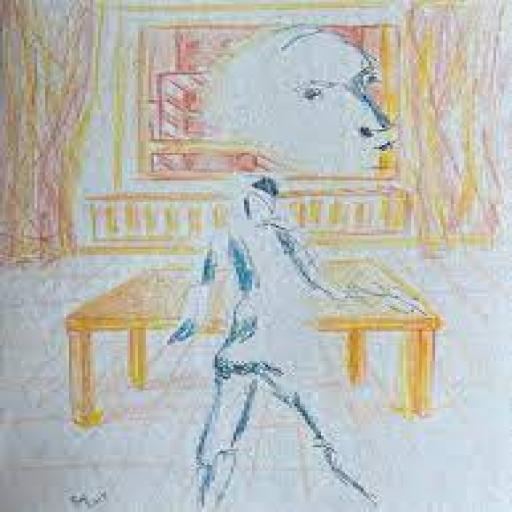person: (160, 23, 408, 510)
